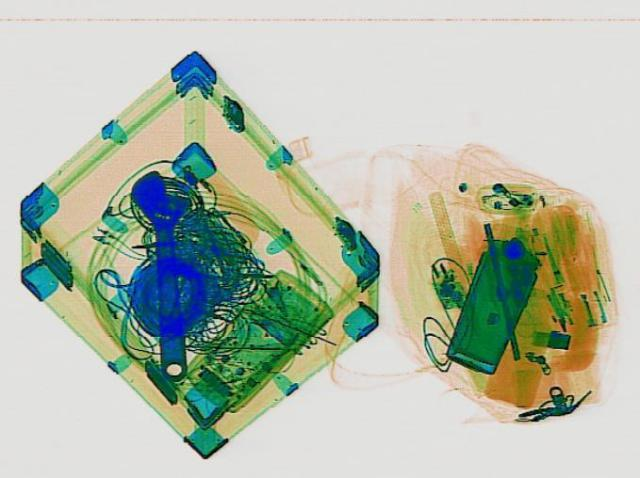Wrench: (129, 169, 203, 379)
